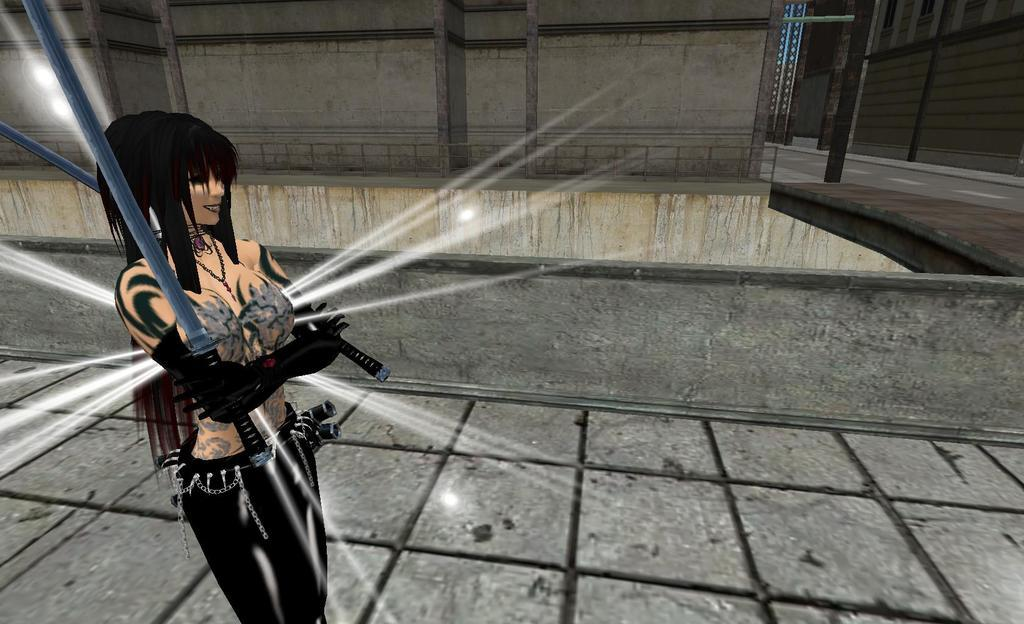Sword: (22, 0, 273, 469), (0, 121, 391, 385)
